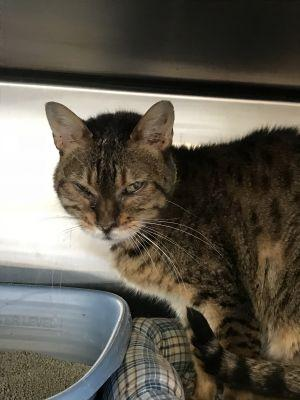bengal: (38, 85, 189, 252)
